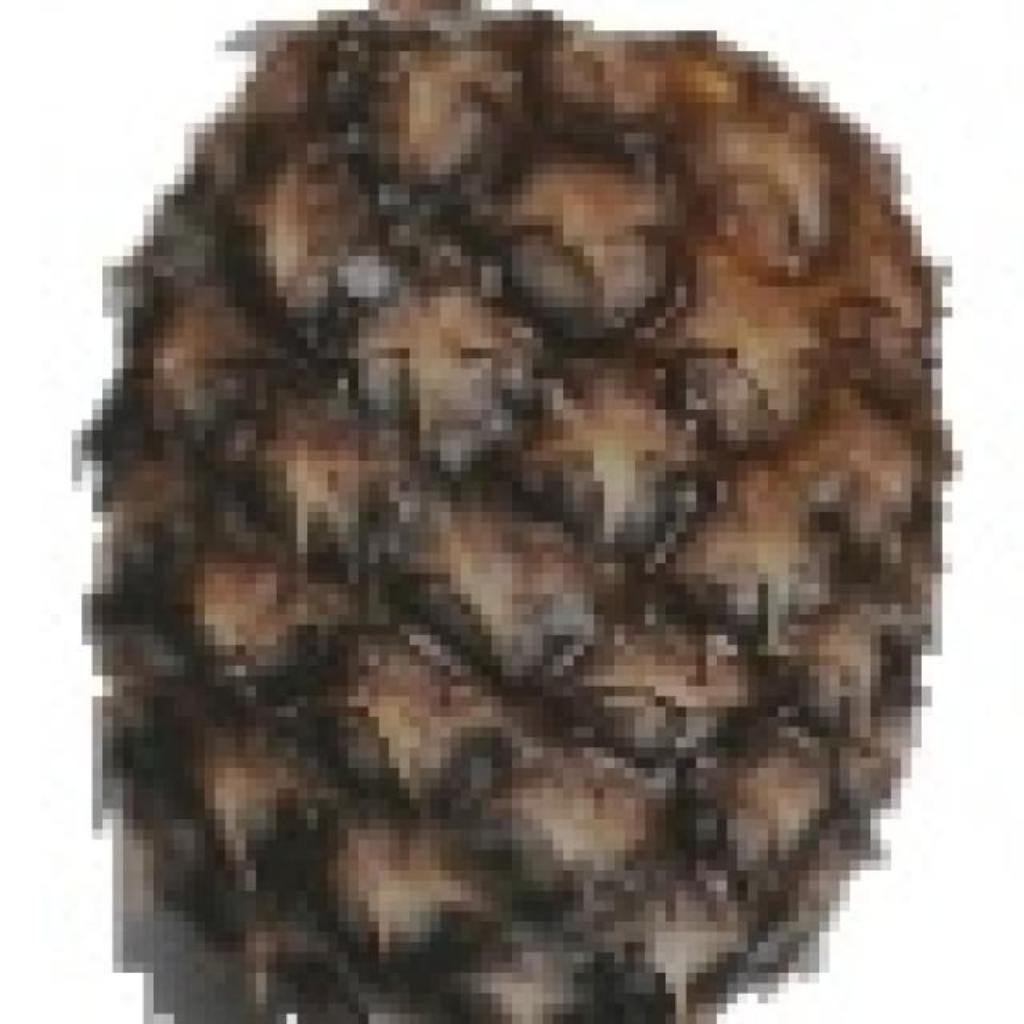pineapple: (84, 0, 950, 1024)
